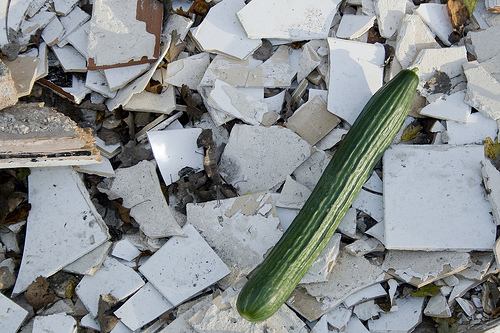cucumber: (235, 68, 420, 325)
